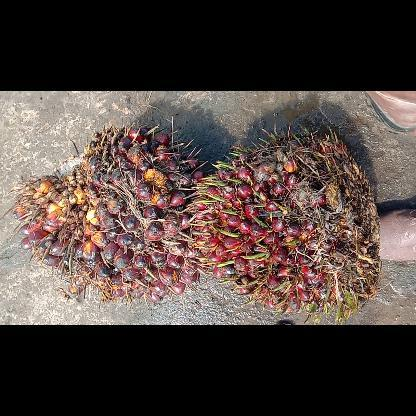Kurang masak: (183, 126, 380, 324)
TBS masak: (13, 124, 208, 306)
